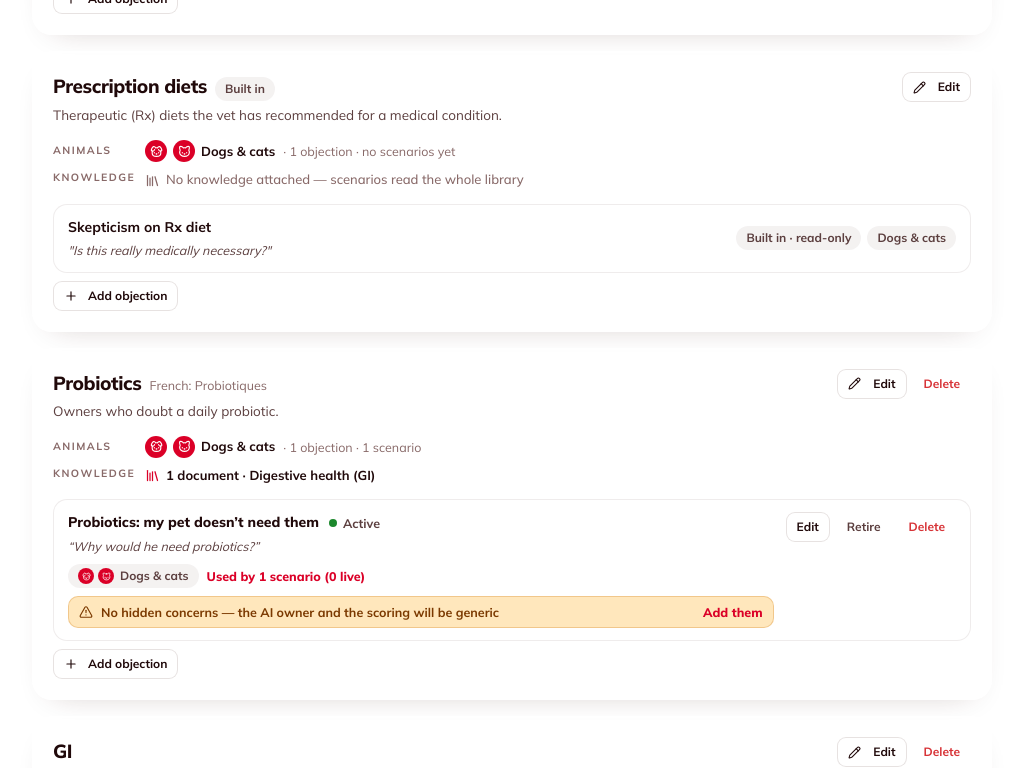
CategoriesScreen › a stale category save reloads and keeps the admin’s edits
(page scrolled)
Expected: the element "Probiotics" is shown, x1=32 y1=348 x2=992 y2=700
Click the button with aria-label "Edit the category “Probiotics”" at (872, 384), box x1=837 y1=368 x2=906 y2=398
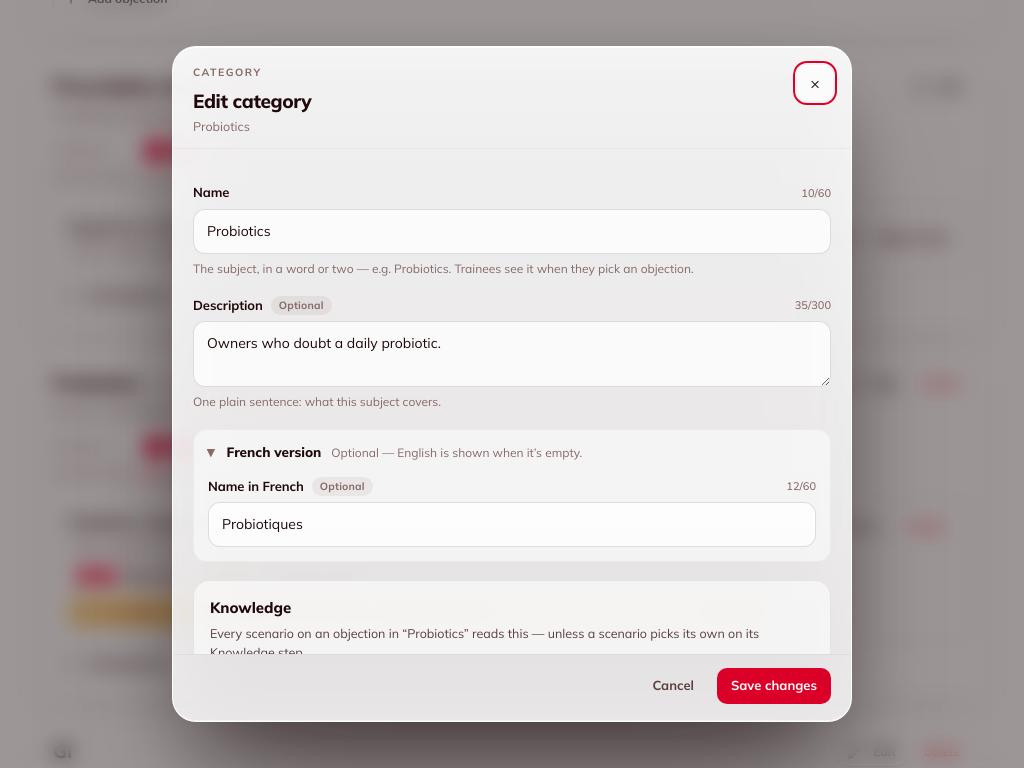
Replace the text in the field labelled "Name" with "Probiotics (gut)" at (512, 231), box x1=193 y1=209 x2=831 y2=254
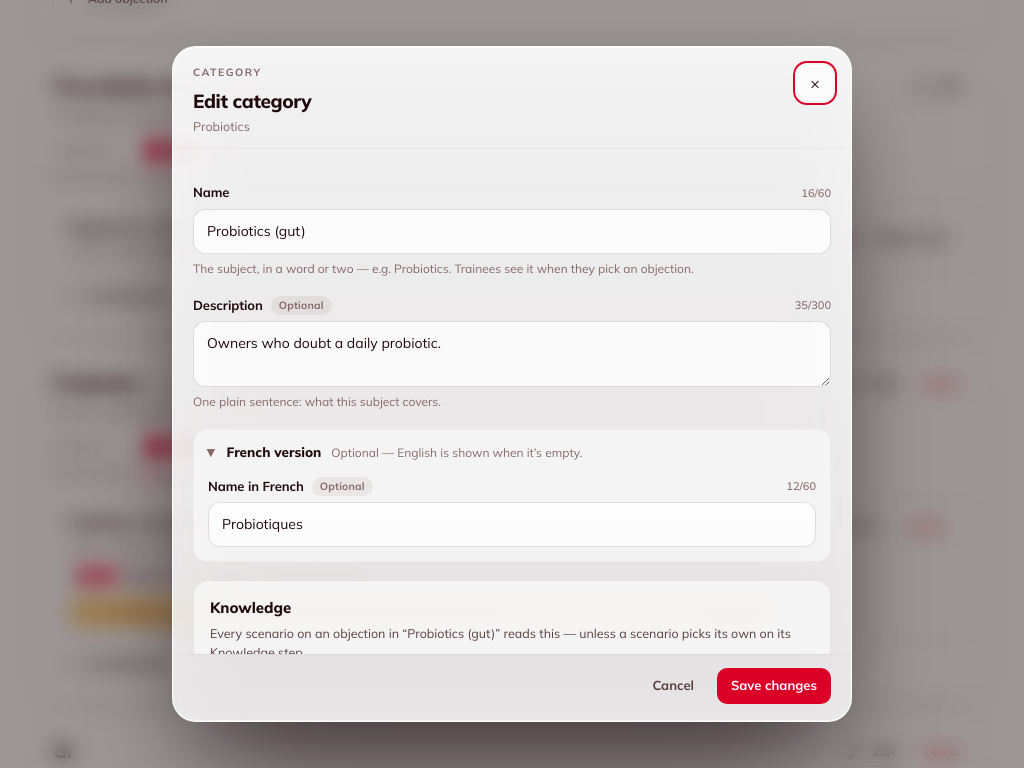
Click the button "Save changes" at (774, 686), box x1=717 y1=668 x2=831 y2=704
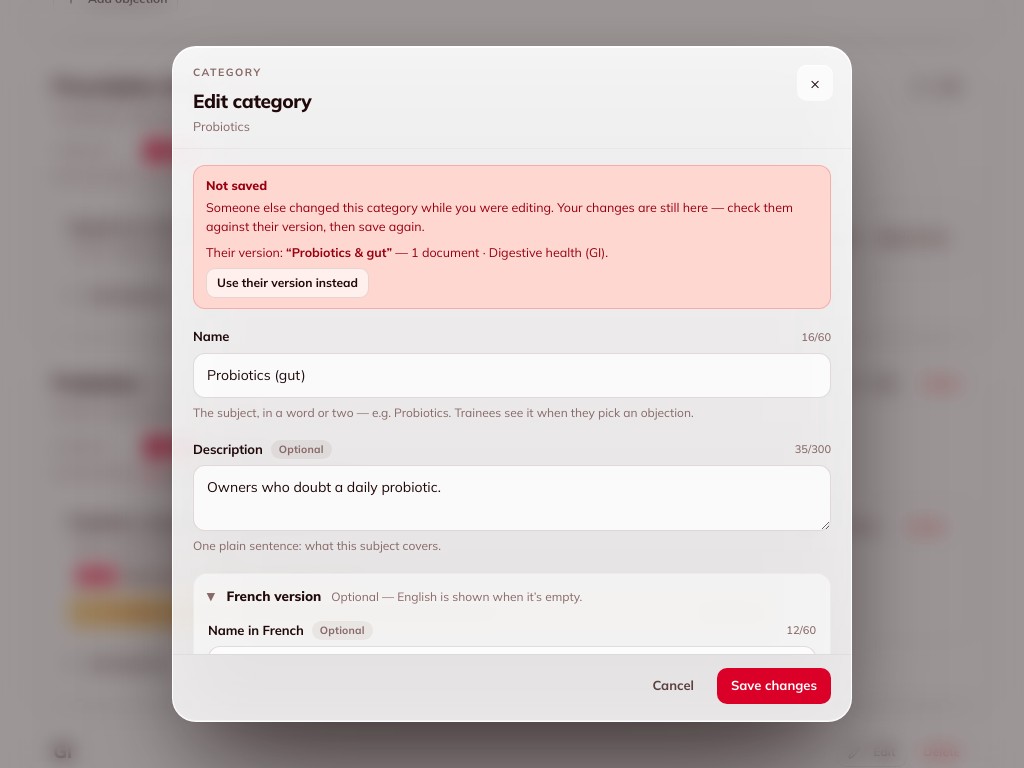
Result: the text "Someone else changed this category while you were editing" is shown at x1=206 y1=199 x2=793 y2=234
Result: the text "“Probiotics & gut”" is shown at x1=286 y1=244 x2=392 y2=260
